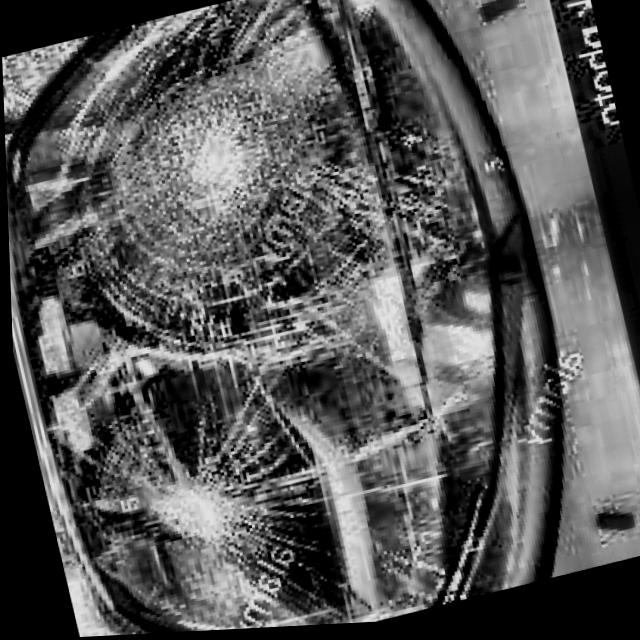glass_shatter: (84, 39, 348, 296), (96, 368, 294, 623)
